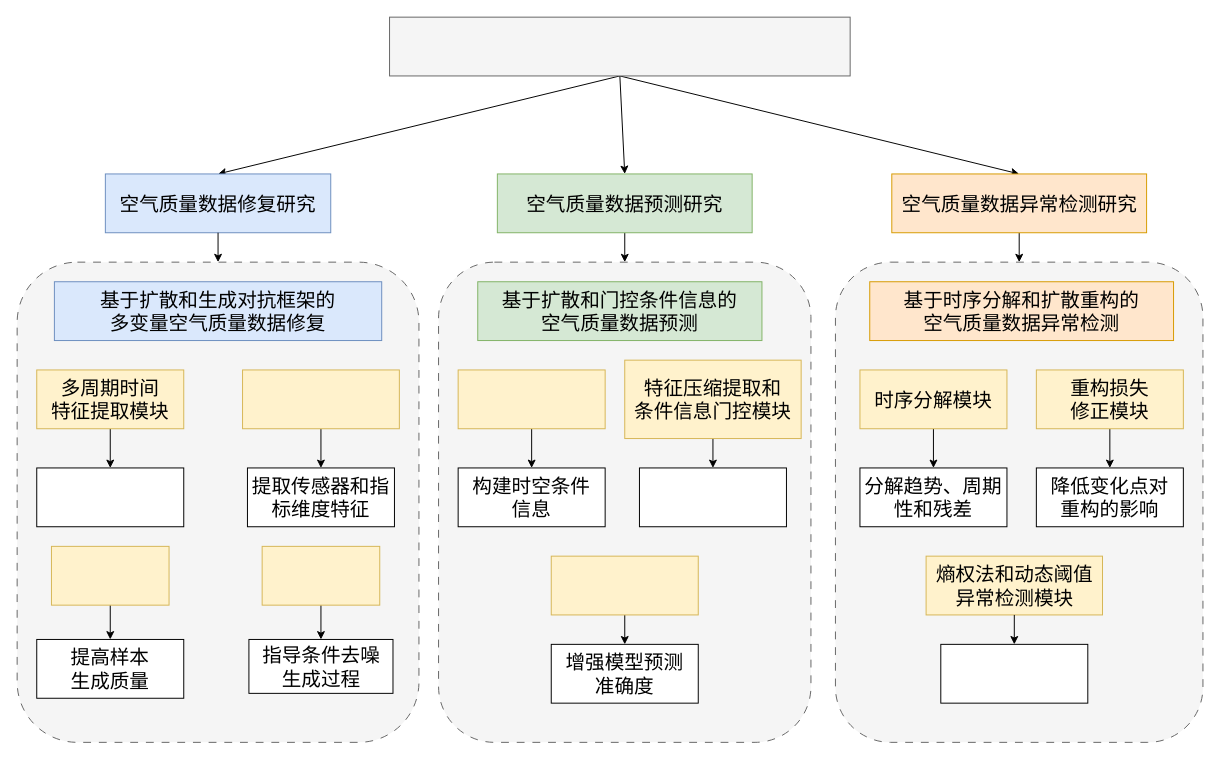
The diagram is 1220 pixels wide and 760 high, and some of its shapes have lost their labels. Each missing label, with the box of its shape:
传感器指标 特征提取模块: (242, 369, 399, 429)
基于扩散概率模型的空气质量预测和异常检测 方法研究: (389, 16, 850, 76)
损失函数构建模块: (550, 555, 698, 615)
提取多尺度时间维度特征: (36, 467, 184, 527)
提高异常检测 准确度: (940, 643, 1088, 703)
提高模型 计算效率: (638, 467, 786, 527)
时空条件信息 模块: (457, 369, 605, 429)
正余弦函数 编码模块: (261, 545, 380, 605)
鉴别器模块: (50, 545, 169, 605)
